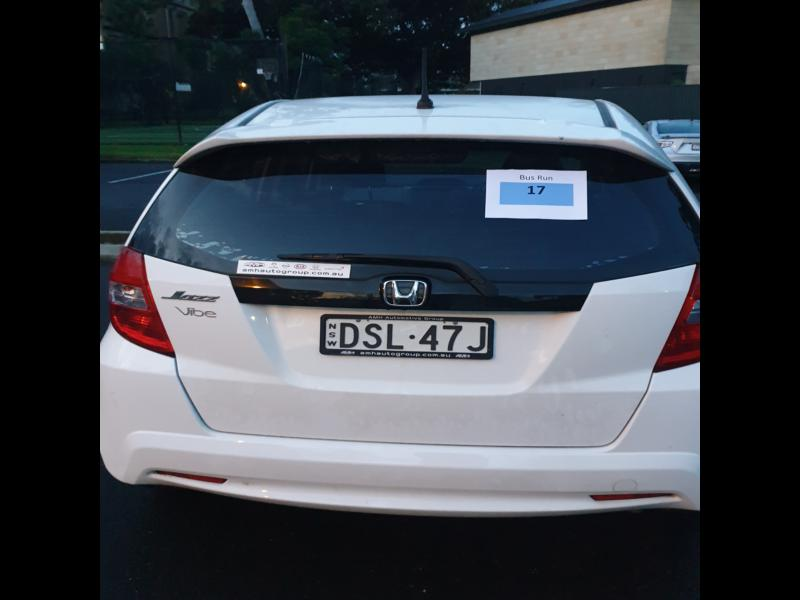BusRun: (500, 181, 574, 206)
PlateNo: (325, 317, 489, 353)
